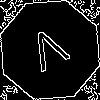V: (25, 25, 76, 81)
